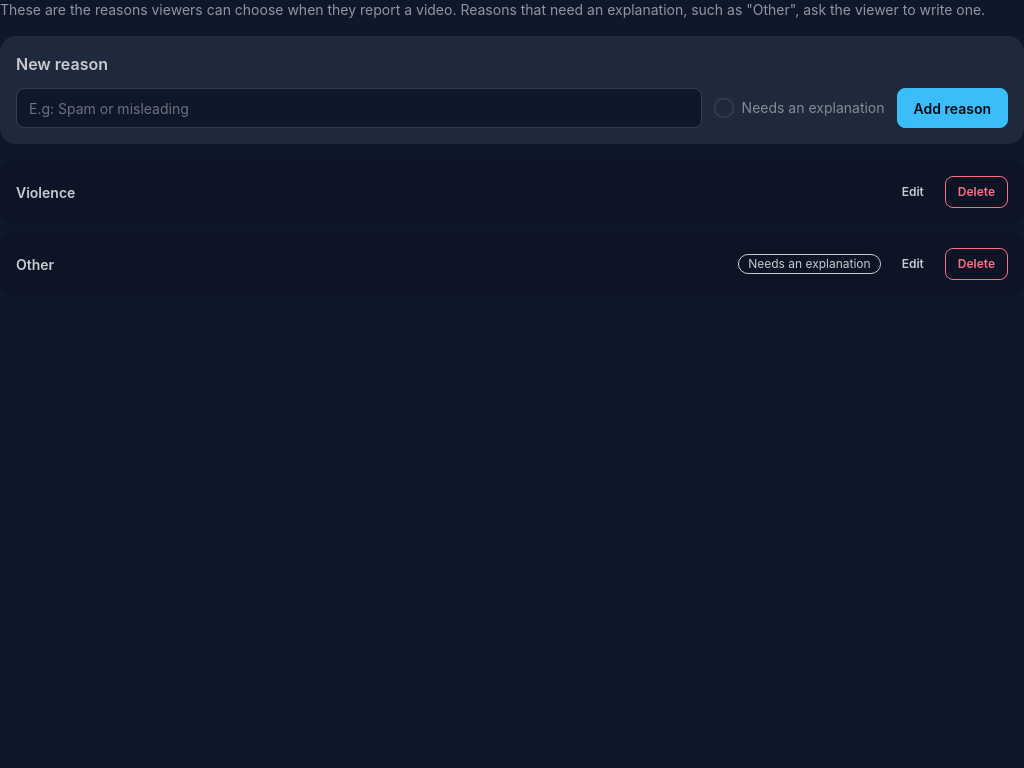
ReportTypesManager › shows why a reason in use cannot be deleted
This screenshot has width=1024, height=768.
Click the button "Delete" in the row of "Violence".
click(976, 192)  # box [945,176,1008,208]
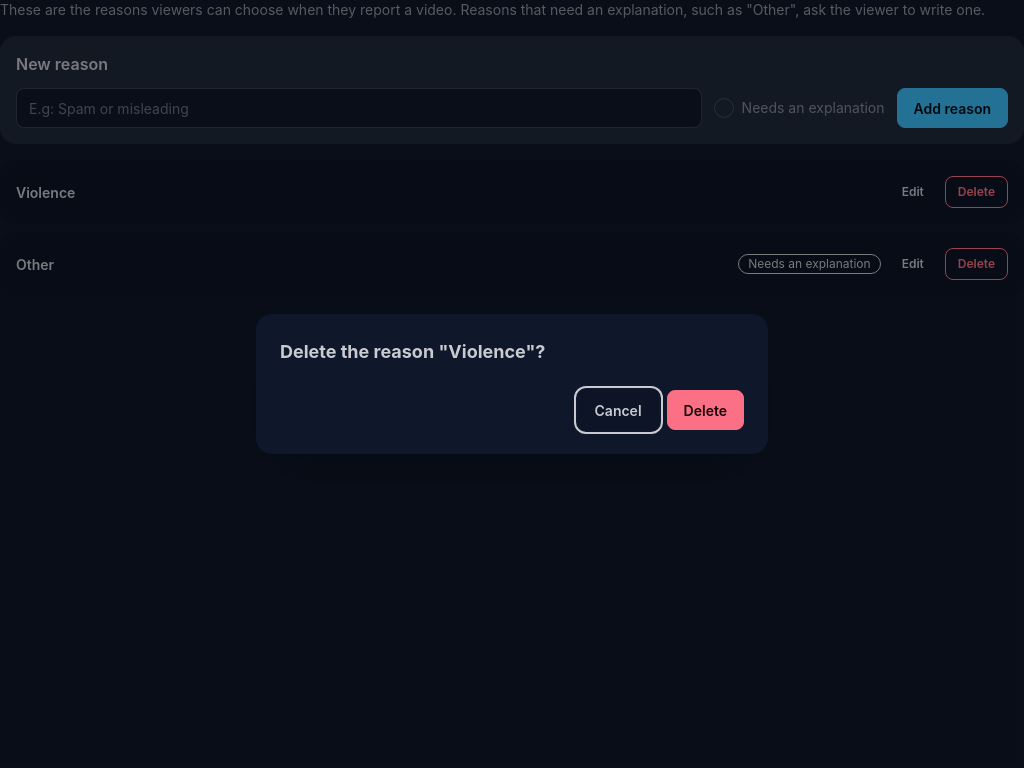
Click the button "Delete".
click(705, 410)  # box [667,390,744,430]
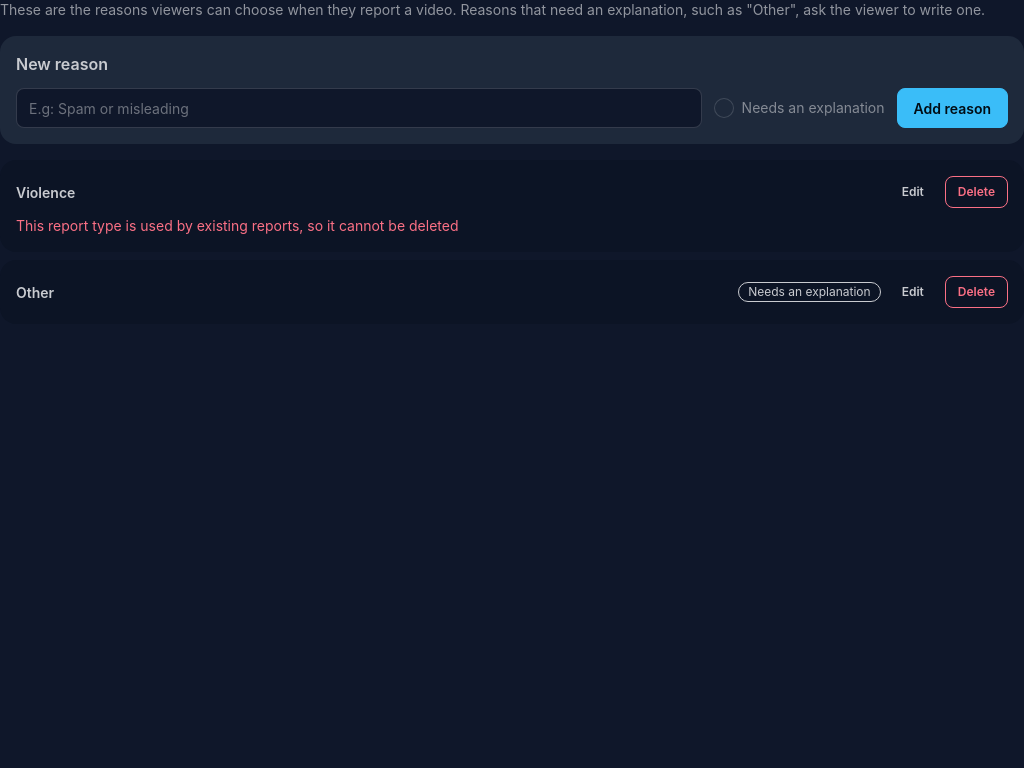
Result: the message shows "used by existing reports" at [16,217,458,234]
